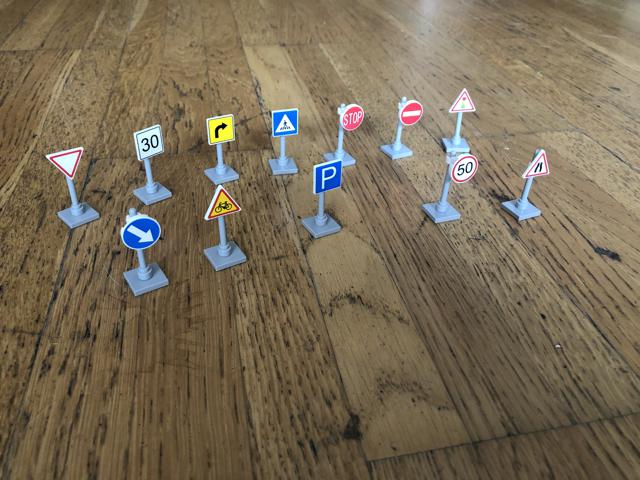fahrtrichtung rechts: (205, 113, 236, 148)
fußgängerüberweg: (270, 108, 300, 137)
lichtzeichenanlage: (451, 87, 478, 114)
parken: (310, 160, 344, 193)
radfahrer: (206, 183, 240, 219)
rechts halten: (122, 217, 162, 251)
stop: (340, 105, 367, 132)
tempolimit 30: (132, 124, 169, 160)
tempolimit 50: (450, 153, 480, 185)
verbot der einfahrt: (398, 101, 423, 127)
verengte fahrbahn: (521, 148, 556, 180)
vorfahrt gewähren: (45, 145, 88, 179)
